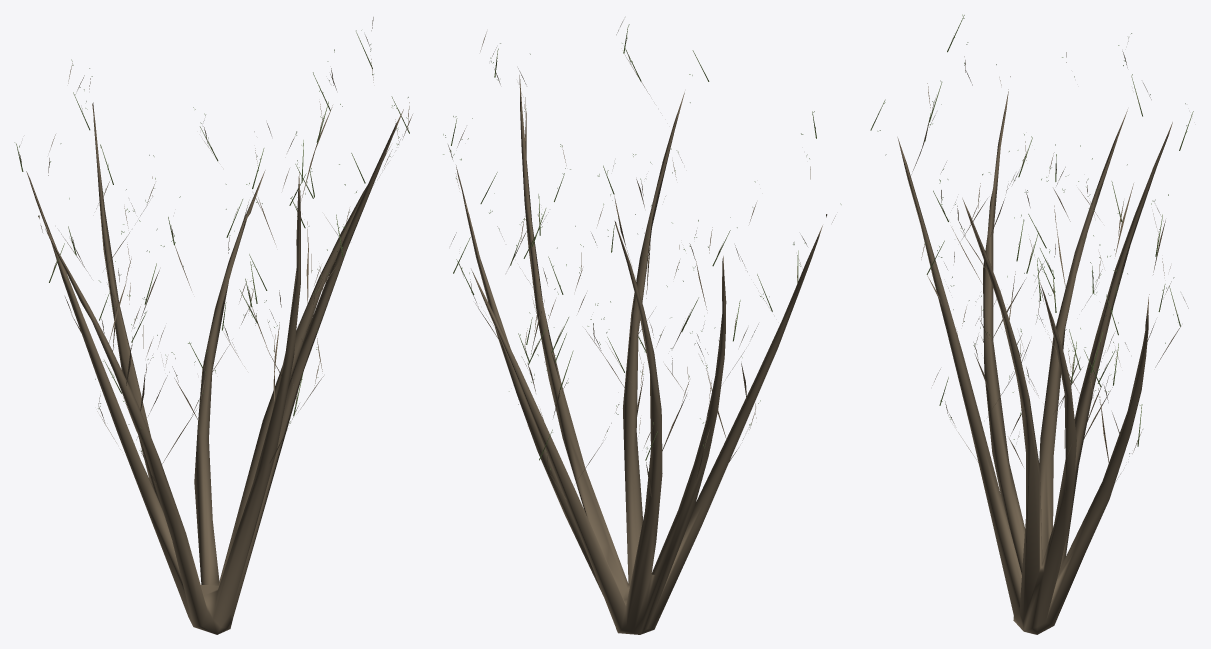
Rendered from Bruyere_2_Niveau2.fbx.
3 views of the same model, side by side, from view 1: azimuth 30°, elevation 25°; view 2: azimuth 150°, elevation 25°; view 3: azimuth 270°, elevation 25° (orthographic). The views are drawn at different scales.
Visible parts, largest first — view 1: Bruyere_2_Niveau2; view 2: Bruyere_2_Niveau2; view 3: Bruyere_2_Niveau2.
Boxes of the visible parts, left/top/right/bottom form: Bruyere_2_Niveau2: left=14, top=17, right=412, bottom=634; Bruyere_2_Niveau2: left=443, top=20, right=841, bottom=634; Bruyere_2_Niveau2: left=870, top=14, right=1193, bottom=634.
Size of the model in its own units: 148 by 212 by 109.
